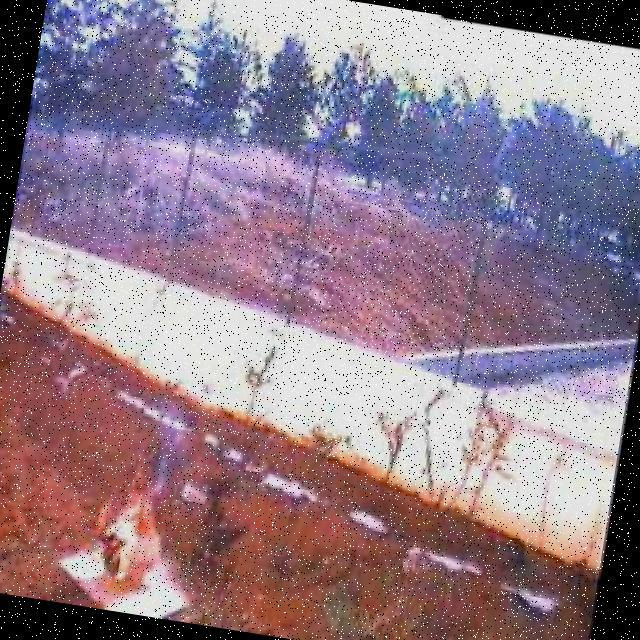Fire: (84, 441, 180, 599)
